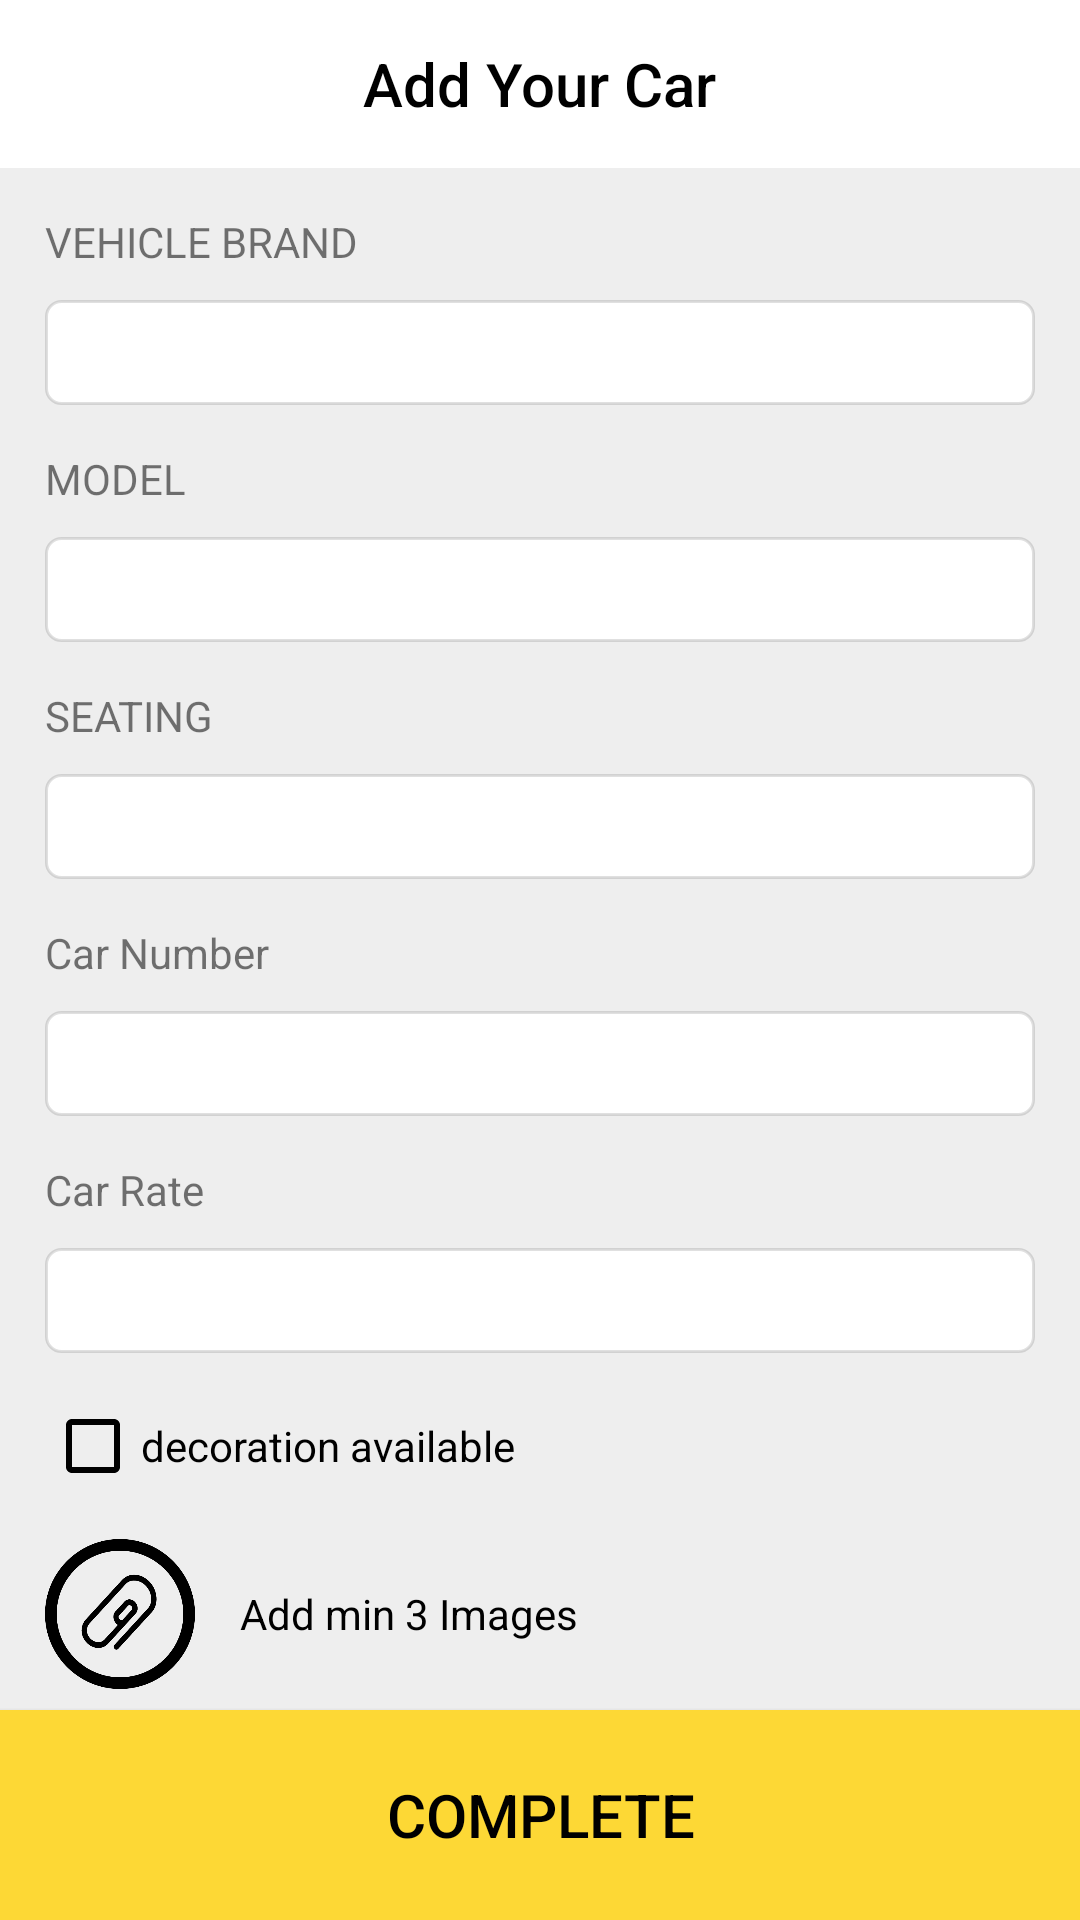

Named icons in this screenshot (1080*1920) and their bounding boxes, region(x1, y1, x2, y2):
attach: region(45, 1539, 195, 1689)
